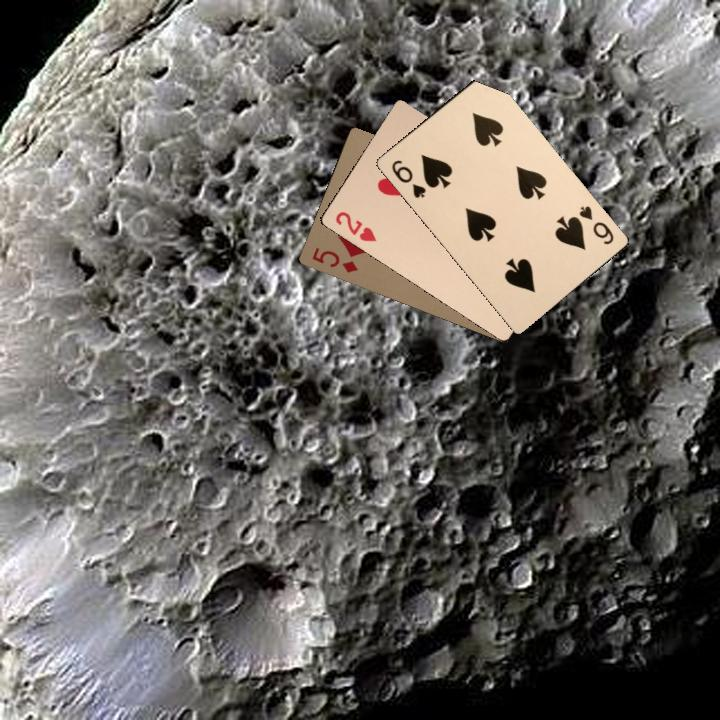2h: (331, 207, 379, 244)
5d: (308, 243, 360, 275)
6s: (387, 156, 429, 201), (575, 202, 616, 247)
